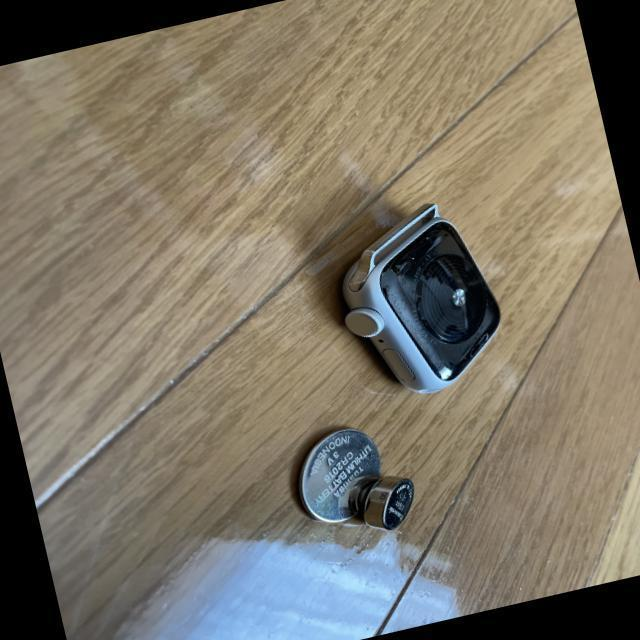COIN: (282, 420, 391, 530), (350, 471, 422, 536)
